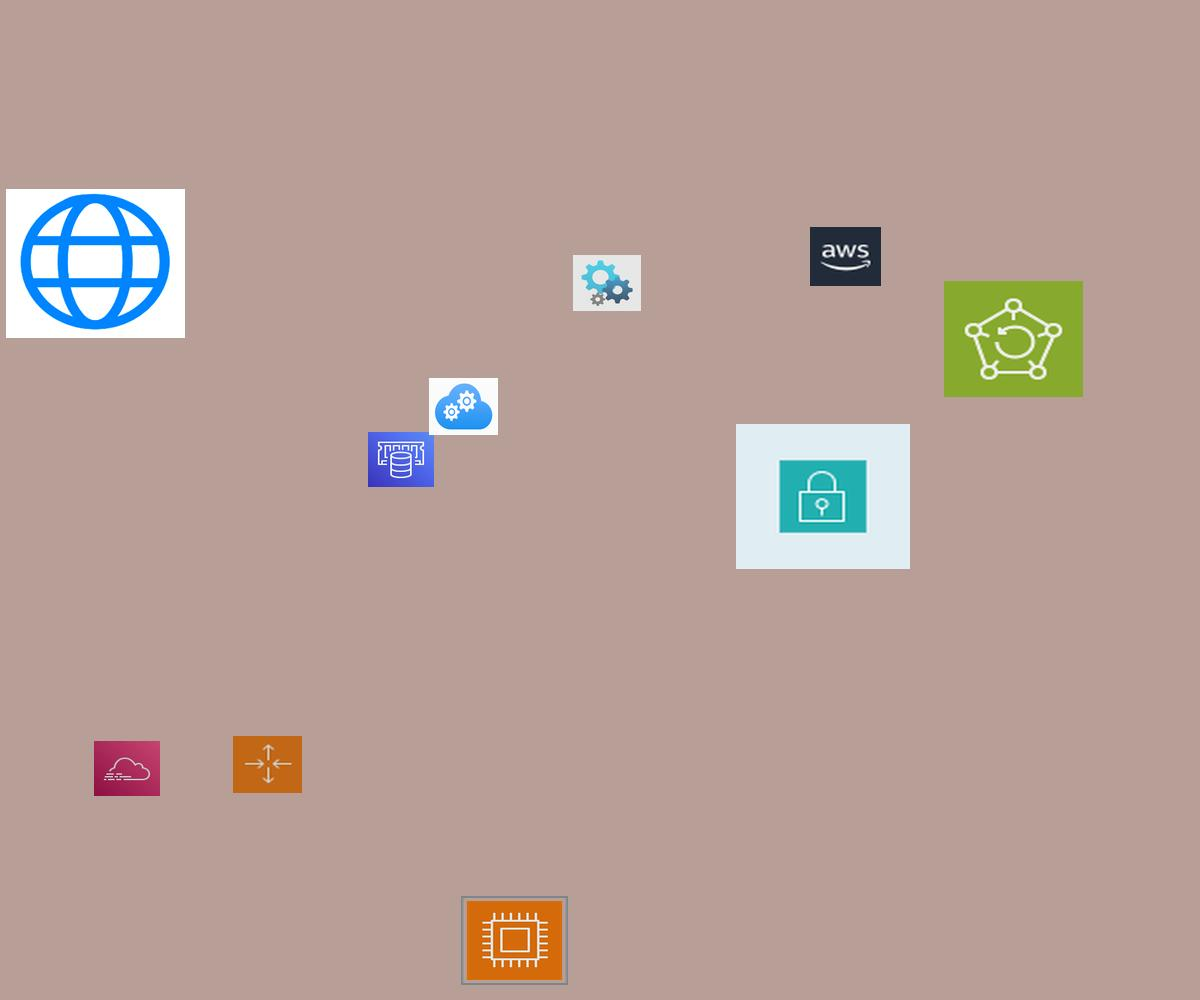AWS-Backup: (944, 281, 1083, 397)
AWS-Category_Compute: (461, 896, 568, 985)
AWS-Cloud-logo: (810, 227, 881, 286)
AWS-CloudTrail: (94, 741, 160, 796)
AWS-ElastiCache: (368, 432, 434, 487)
AWS-Private-subnet: (736, 424, 910, 569)
AWS-Scaling-group: (233, 736, 302, 793)
Azure_api: (573, 255, 641, 311)
Azure_cloud_services: (429, 378, 498, 435)
Azure_http: (6, 189, 185, 338)
